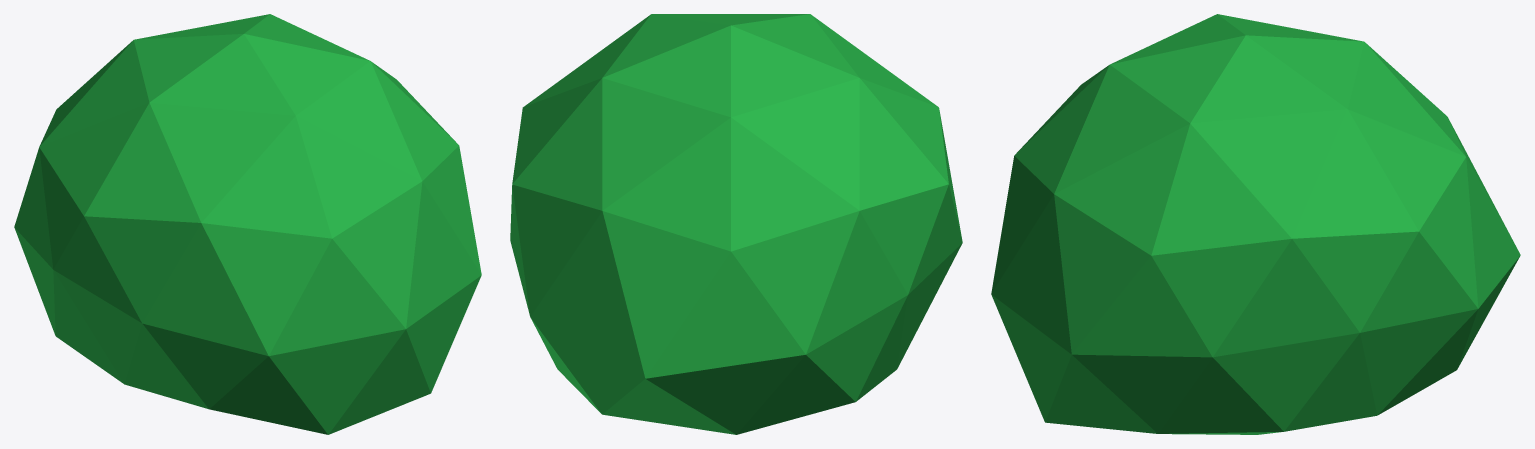
Rendered from Bush_model_2.fbx.
3 views of the same model, side by side, from view 1: azimuth 30°, elevation 25°; view 2: azimuth 150°, elevation 25°; view 3: azimuth 270°, elevation 25° (orthographic). The views are drawn at different scales.
Visible parts, largest first — view 1: Bush; view 2: Bush; view 3: Bush.
Boxes of the visible parts, bbox=[...] form: Bush: bbox=[14, 14, 481, 434]; Bush: bbox=[510, 14, 962, 434]; Bush: bbox=[991, 14, 1520, 434].
Bounding box in the file's own units: 23.91 × 20.97 × 27.58.
